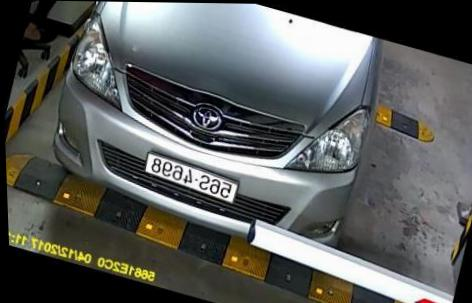License_Plate: (141, 144, 243, 213)
